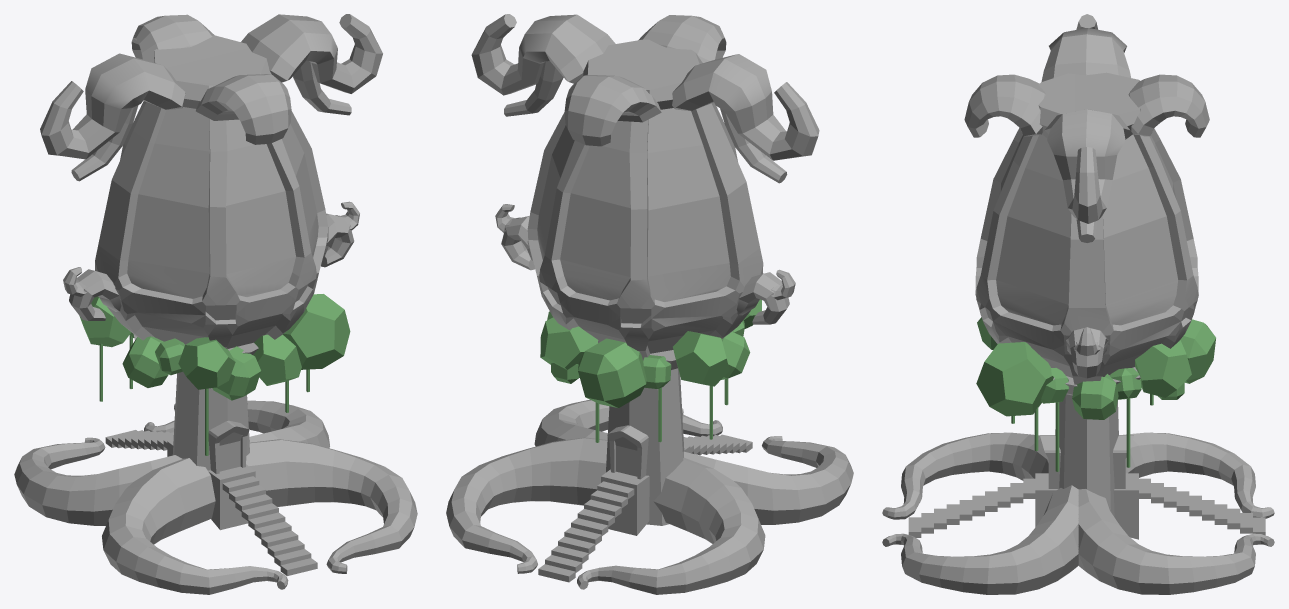
File: ForesterHome with Plants.fbx
3 renders of one model, left to right at view 1: azimuth 30°, elevation 25°; view 2: azimuth 150°, elevation 25°; view 3: azimuth 270°, elevation 25°, orthographic. The views are drawn at different scales.
Parts seen in each view (by area): view 1: Building, Plants; view 2: Building, Plants; view 3: Building, Plants.
Part boxes in pixels (<box>): Building: <box>14,14,417,594</box>; Plants: <box>79,294,350,455</box>; Building: <box>446,14,853,594</box>; Plants: <box>540,299,761,442</box>; Building: <box>882,14,1274,594</box>; Plants: <box>976,317,1215,471</box>.
Bounding box in the file's own units: 8.12 × 10.77 × 8.23.
